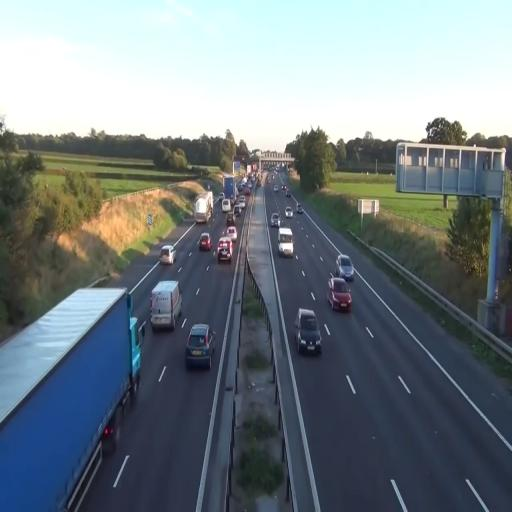vehicle: (0, 286, 144, 508), (150, 281, 182, 331), (185, 323, 214, 370), (296, 308, 322, 356), (328, 275, 352, 312), (216, 232, 236, 266), (278, 226, 294, 256), (216, 237, 233, 264), (336, 255, 354, 280), (160, 244, 175, 266), (198, 233, 212, 252), (270, 210, 282, 228)
